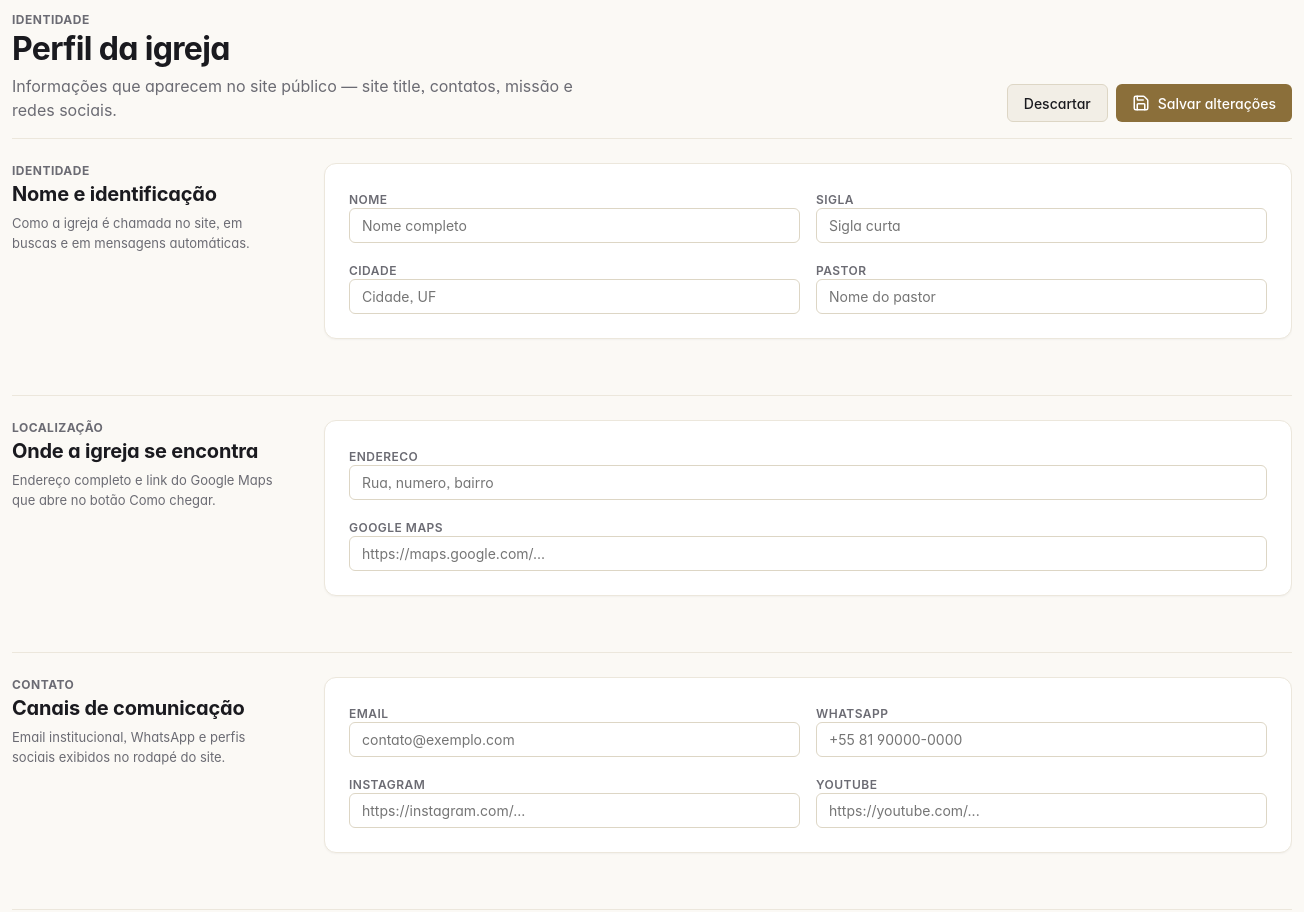
Test: ProfileView › shows a danger toast when profile save fails
In the field labelled "Nome": (574, 226) [349,208,800,243], type "Igreja"
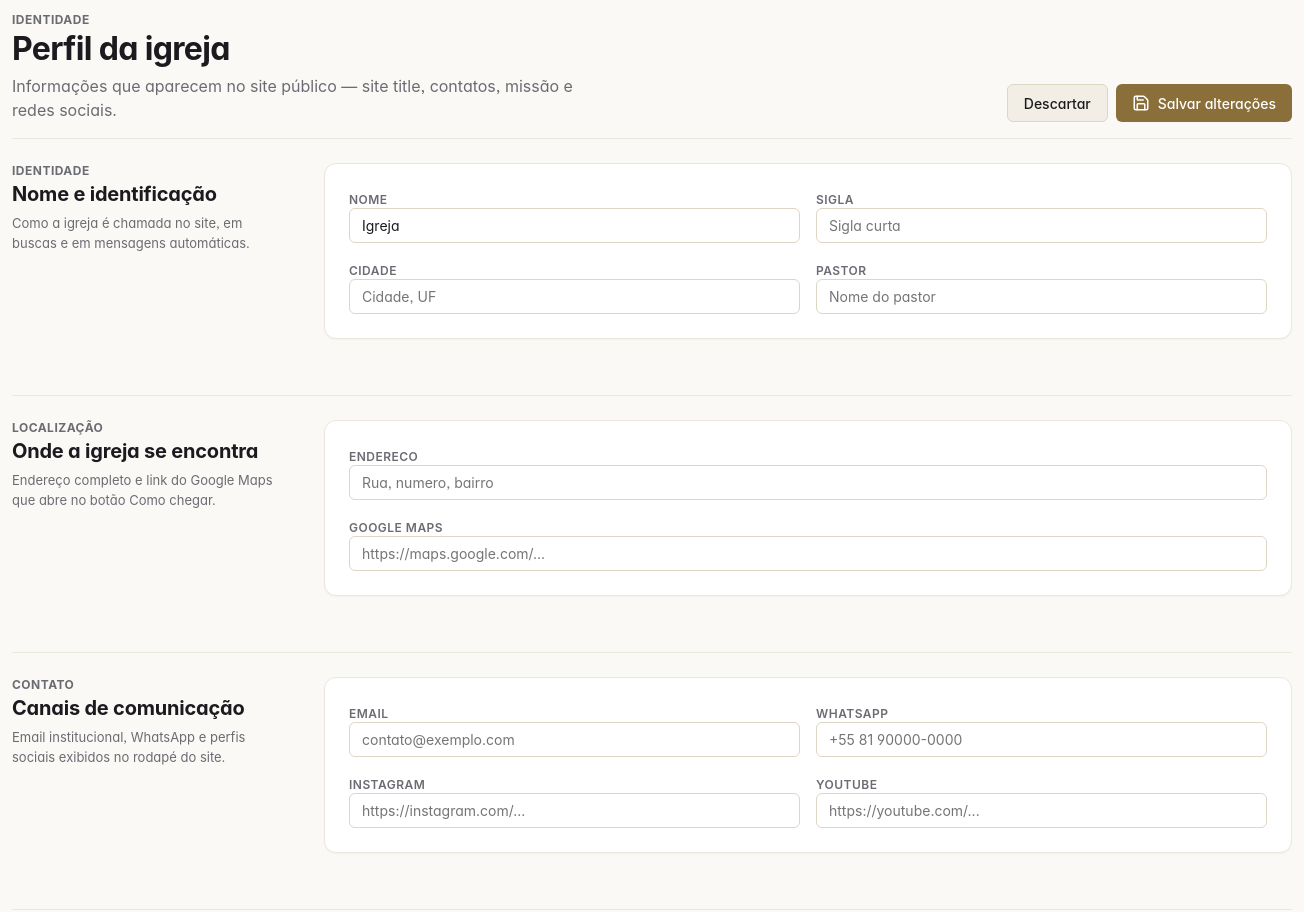
In the field labelled "Sigla": (1042, 226) [816,208,1267,243], type "IGR"
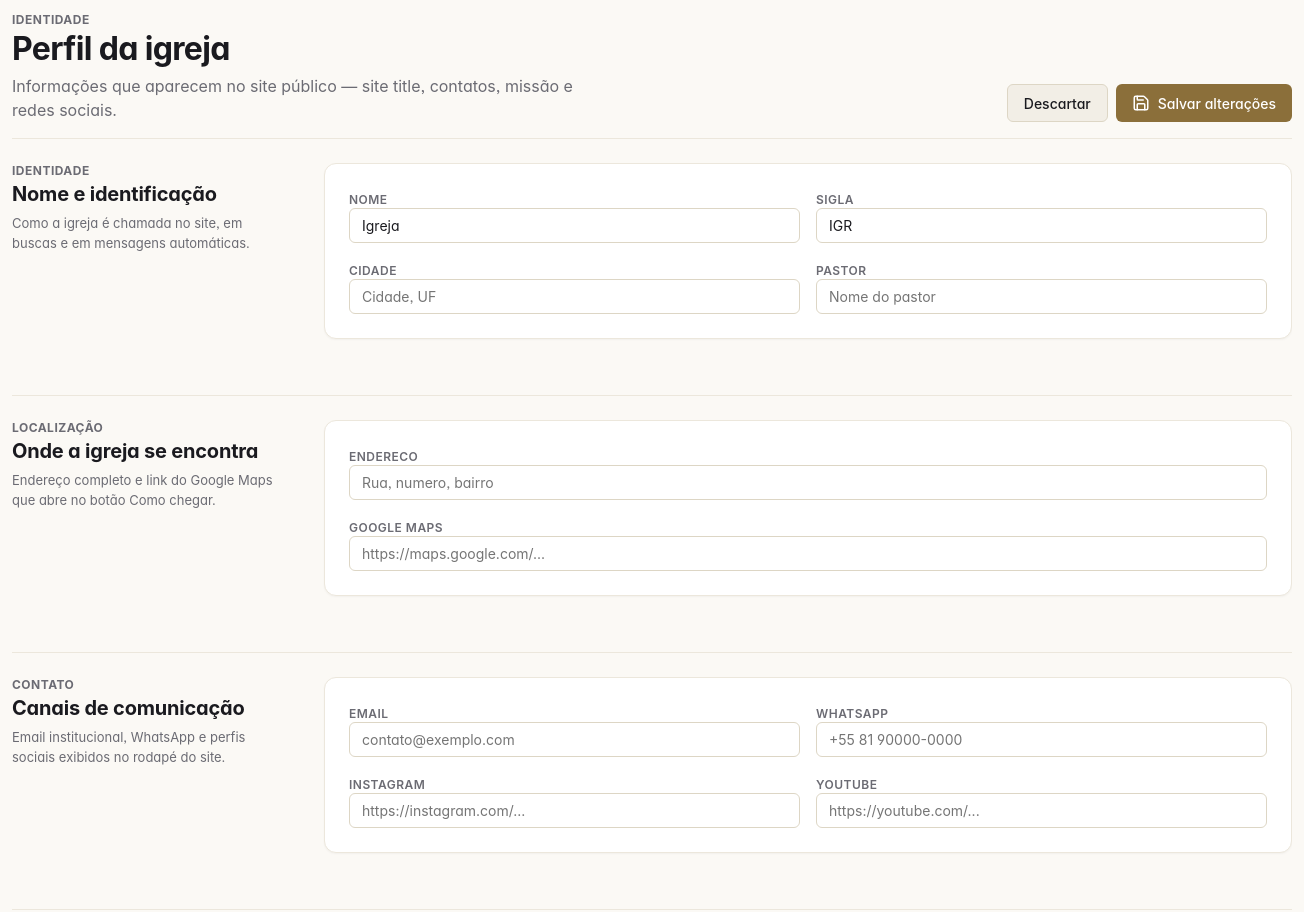
Click the button "Salvar alterações": (1204, 103) [1116,84,1292,122]
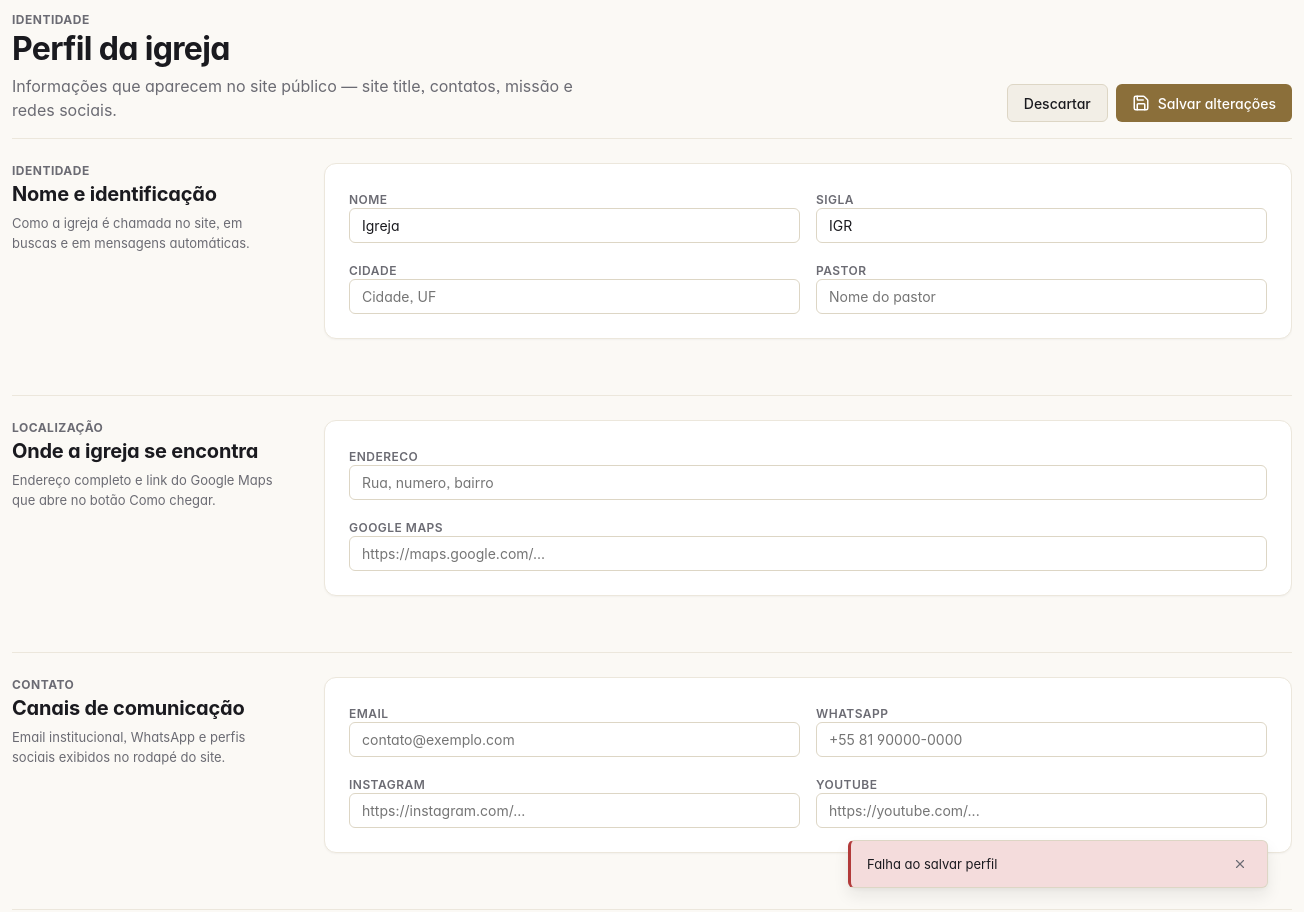
expect the text "Falha ao salvar perfil" is shown: met, box [867,856,997,872]
